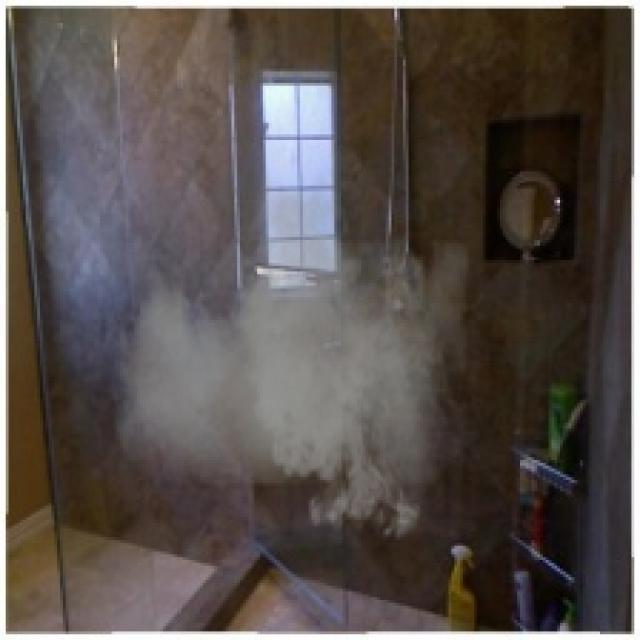Smoke: (114, 174, 469, 552)
